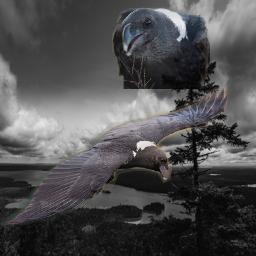Crow: (1, 87, 228, 229), (112, 7, 210, 89)
